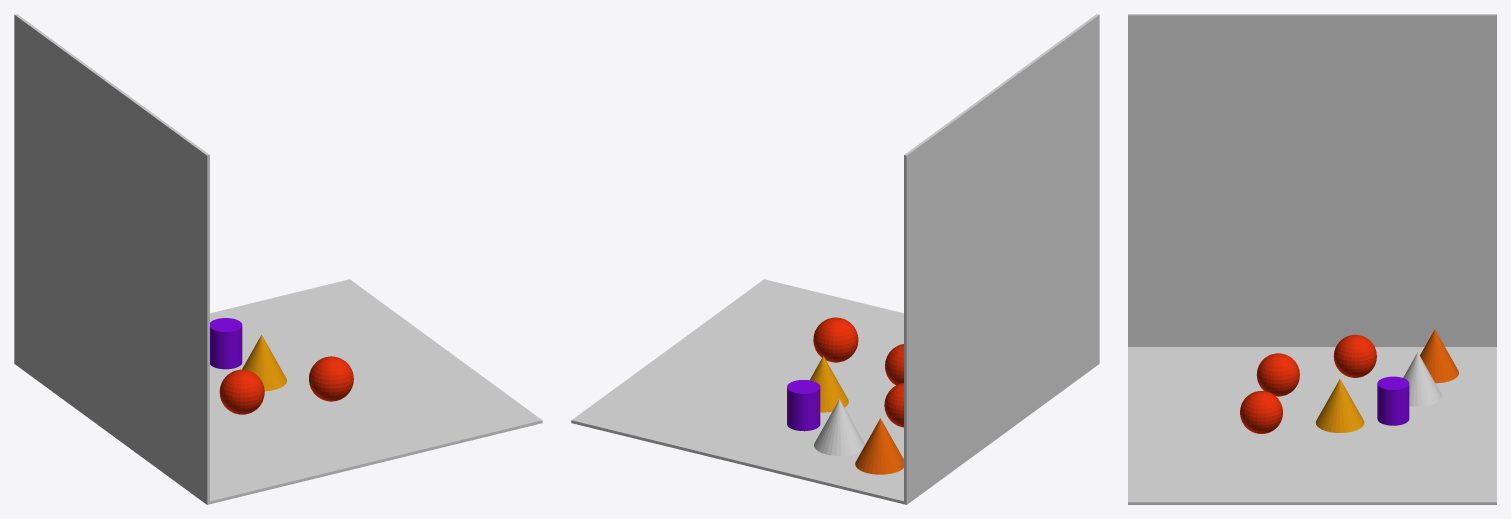
File: UseCase_03-variant1-geometry.gltf
3 views of the same model, side by side, from view 1: azimuth 30°, elevation 25°; view 2: azimuth 150°, elevation 25°; view 3: azimuth 270°, elevation 25° (orthographic). The views are drawn at different scales.
Parts seen in each view (by area): view 1: Cube.001, Cube, Sphere.001, Sphere.002, Cylinder, Cone; view 2: Cube.001, Cube, Cone.002, Cone.001, Cylinder, Sphere.002, Cone, Sphere, Sphere.001; view 3: Cube.001, Cube, Cone, Cylinder, Sphere, Sphere.002, Sphere.001, Cone.002, Cone.001.
Part boxes in pixels (x1,y1,x2,y2): Cube.001: (14,14,209,504); Cube: (208,279,542,504); Sphere.001: (219,369,264,414); Sphere.002: (309,356,353,401); Cylinder: (210,318,242,369); Cone: (242,335,286,391); Cube.001: (904,14,1099,504); Cube: (571,279,905,504); Cone.002: (814,399,864,455); Cone.001: (855,418,903,474); Cylinder: (787,380,820,431); Sphere.002: (813,317,858,362); Cone: (810,356,848,412); Sphere: (884,383,903,427); Sphere.001: (885,344,903,385); Cube.001: (1128,14,1496,346); Cube: (1128,347,1496,504); Cone: (1315,379,1364,432); Cylinder: (1377,376,1409,425); Sphere: (1333,334,1376,377); Sphere.002: (1240,391,1282,433); Sphere.001: (1256,353,1299,396); Cone.002: (1403,352,1441,406); Cone.001: (1420,329,1458,383).
Bounding box in the file's own units: 6.98 × 6.95 × 6.95.
